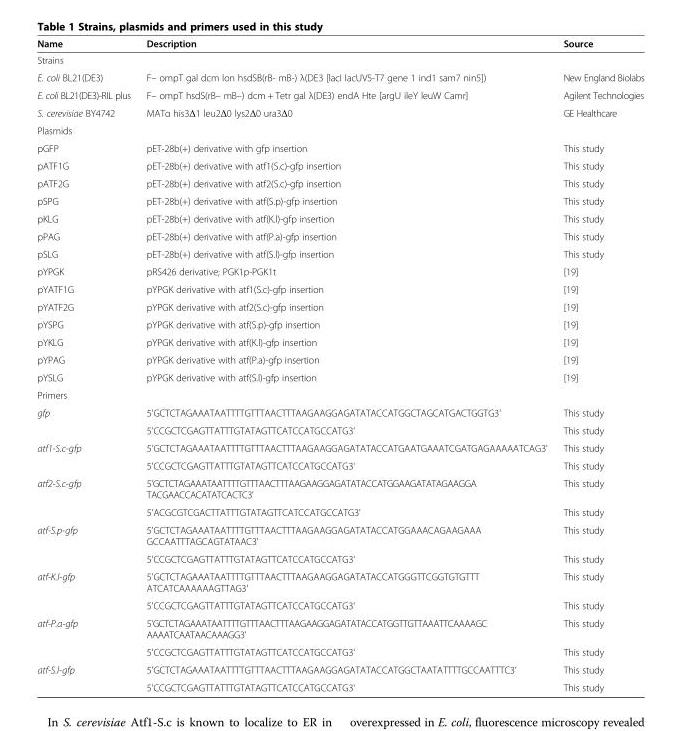table: (36, 37, 643, 692)
table column: (137, 37, 554, 692), (36, 37, 137, 692), (554, 37, 643, 692)
table column header: (36, 37, 643, 51)
table projected row header: (36, 121, 643, 139), (36, 385, 643, 403), (36, 51, 643, 67)
table row: (36, 474, 643, 503), (36, 520, 643, 549), (36, 567, 643, 596), (36, 614, 643, 642), (36, 67, 643, 85), (36, 85, 643, 103), (36, 103, 643, 121), (36, 121, 643, 139), (36, 156, 643, 174), (36, 191, 643, 209), (36, 209, 643, 227), (36, 244, 643, 262), (36, 262, 643, 280), (36, 297, 643, 315), (36, 315, 643, 333), (36, 350, 643, 368), (36, 385, 643, 403), (36, 403, 643, 421), (36, 438, 643, 456), (36, 456, 643, 474), (36, 549, 643, 567), (36, 596, 643, 614), (36, 642, 643, 660), (36, 660, 643, 678), (36, 139, 643, 156), (36, 174, 643, 191), (36, 227, 643, 244), (36, 280, 643, 297), (36, 333, 643, 350), (36, 368, 643, 385), (36, 421, 643, 438), (36, 503, 643, 520), (36, 51, 643, 67), (36, 37, 643, 51), (36, 678, 643, 692)
table spanning cell: (36, 520, 137, 567), (36, 567, 137, 614), (36, 474, 137, 520), (36, 614, 137, 660), (36, 438, 137, 474), (36, 403, 137, 438), (36, 660, 137, 692)
